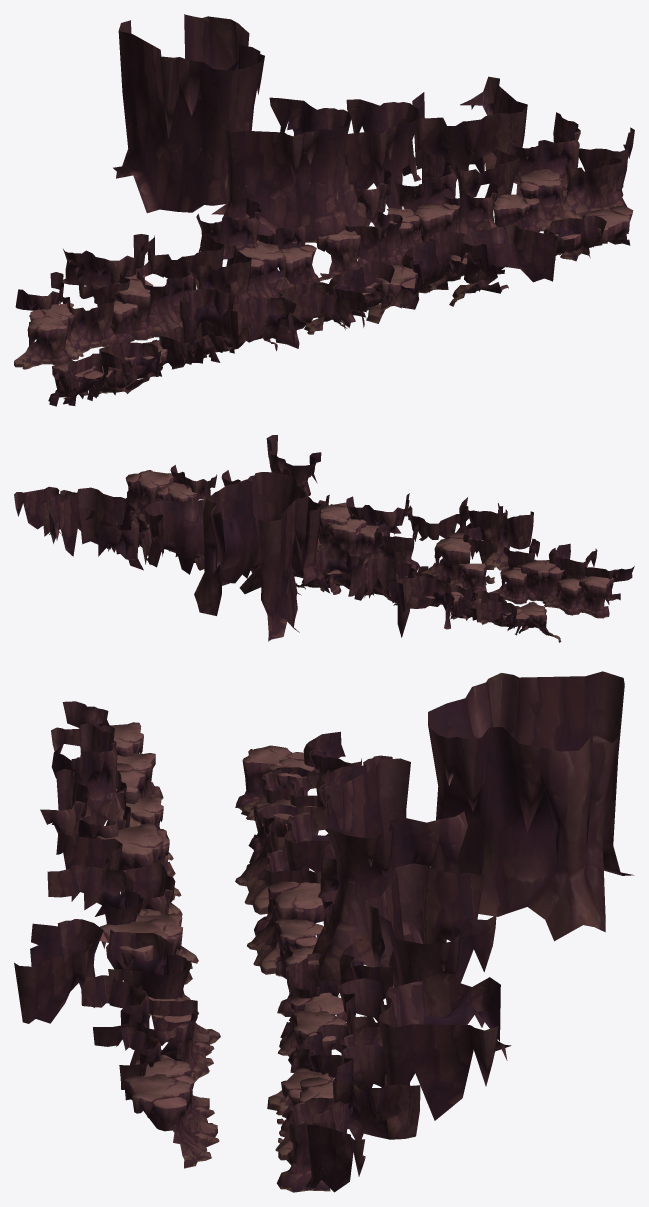
File: area8_shiqiang_02.FBX
The picture shows the model from 3 angles, top to bottom: view 1: azimuth 30°, elevation 25°; view 2: azimuth 150°, elevation 25°; view 3: azimuth 270°, elevation 25°; orthographic projection. The views are drawn at different scales.
Parts seen in each view (by area): view 1: area8_shiqiang_02; view 2: area8_shiqiang_02; view 3: area8_shiqiang_02.
Boxes of the visible parts, box(x1,y1,x2,y2) form: area8_shiqiang_02: box(14, 14, 634, 406); area8_shiqiang_02: box(14, 435, 634, 642); area8_shiqiang_02: box(14, 671, 634, 1192).
Bounding box in the file's own units: 14676 × 4526 × 8603.
